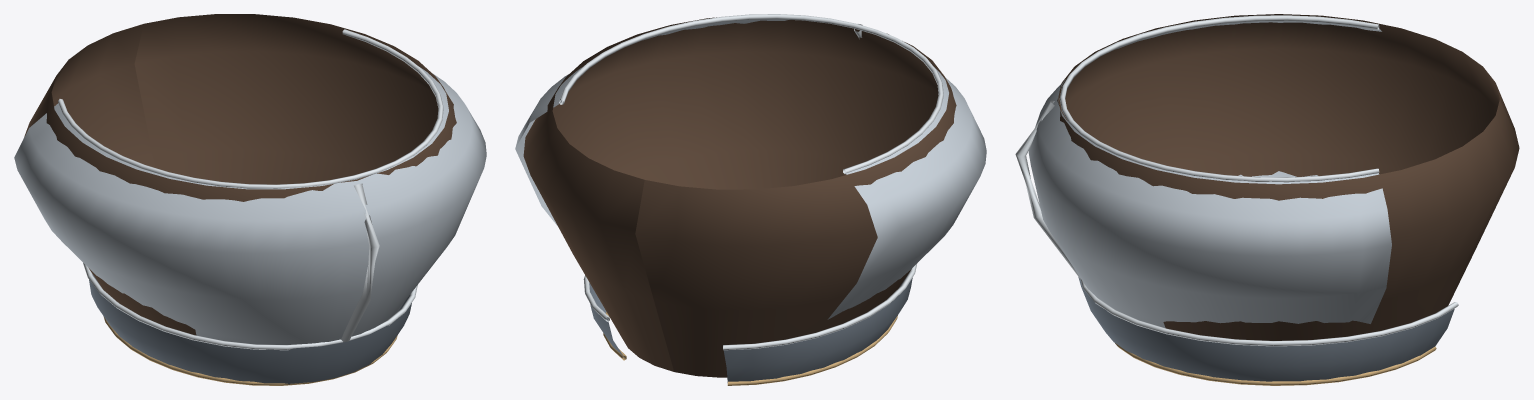
File: greave.glb
3 renders of one model, left to right at view 1: azimuth 30°, elevation 25°; view 2: azimuth 150°, elevation 25°; view 3: azimuth 270°, elevation 25°, orthographic. The views are drawn at different scales.
Visible parts, largest first — view 1: fluted_greave, boot_leather_liner, ankle_cuff, fluted_greave_bevel, ankle_cuff_bevel, shin_ridge, ankle_cuff_gold_rim; view 2: boot_leather_liner, fluted_greave, ankle_cuff, fluted_greave_bevel, ankle_cuff_bevel, ankle_cuff_gold_rim; view 3: boot_leather_liner, fluted_greave, ankle_cuff, fluted_greave_bevel, ankle_cuff_bevel, ankle_cuff_gold_rim, shin_ridge.
Boxes of the visible parts, x1,y1,x2,y2 form: fluted_greave: [14, 67, 486, 344]; boot_leather_liner: [24, 14, 456, 335]; ankle_cuff: [89, 274, 411, 383]; fluted_greave_bevel: [58, 29, 443, 188]; ankle_cuff_bevel: [83, 263, 417, 350]; shin_ridge: [341, 183, 379, 342]; ankle_cuff_gold_rim: [103, 316, 397, 385]; boot_leather_liner: [523, 17, 956, 377]; fluted_greave: [515, 19, 986, 319]; ankle_cuff: [589, 272, 912, 382]; fluted_greave_bevel: [559, 14, 943, 174]; ankle_cuff_bevel: [583, 263, 917, 350]; ankle_cuff_gold_rim: [603, 312, 897, 385]; boot_leather_liner: [1057, 14, 1519, 340]; fluted_greave: [1028, 20, 1391, 327]; ankle_cuff: [1078, 277, 1454, 381]; fluted_greave_bevel: [1059, 15, 1379, 182]; ankle_cuff_bevel: [1080, 278, 1458, 346]; ankle_cuff_gold_rim: [1115, 343, 1436, 385]; shin_ridge: [1015, 100, 1080, 278].
Size of the model in its own units: 2 by 1.02 by 2.05.
